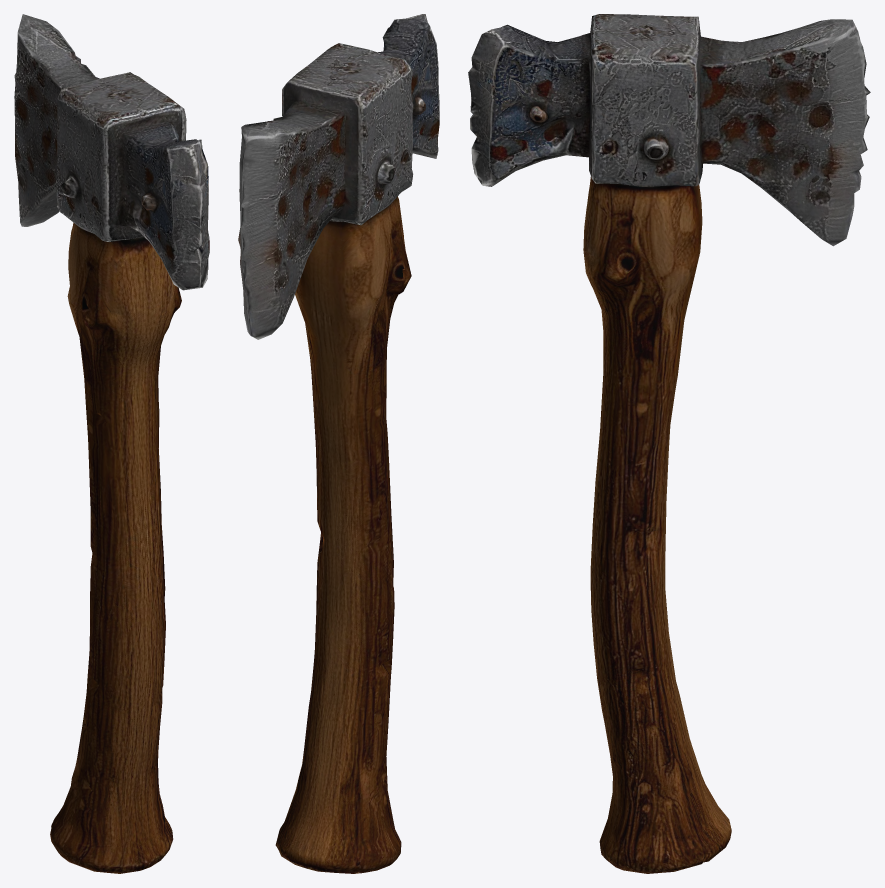
File: felling_axe.glb
3 views of the same model, side by side, from view 1: azimuth 30°, elevation 25°; view 2: azimuth 150°, elevation 25°; view 3: azimuth 270°, elevation 25° (orthographic). The views are drawn at different scales.
Parts seen in each view (by area): view 1: felling_axe; view 2: felling_axe; view 3: felling_axe.
Boxes of the visible parts, x1,y1,x2,y2 form: felling_axe: (14, 14, 209, 873); felling_axe: (238, 14, 439, 873); felling_axe: (468, 14, 870, 873).
Size of the model in its own units: 0.1291 by 0.9 by 0.3931.
Materials: 1 (1 with a texture image).
